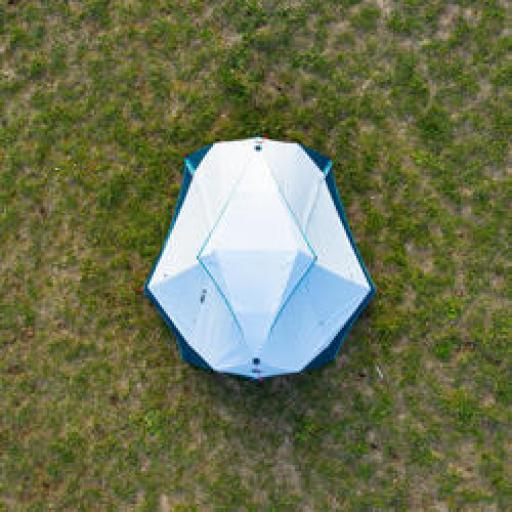tent: (150, 139, 370, 379)
